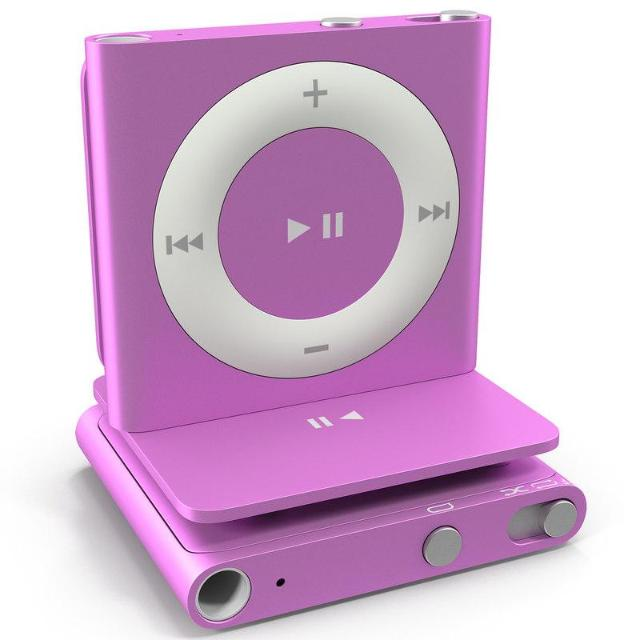Music-Player: (34, 6, 596, 634)
